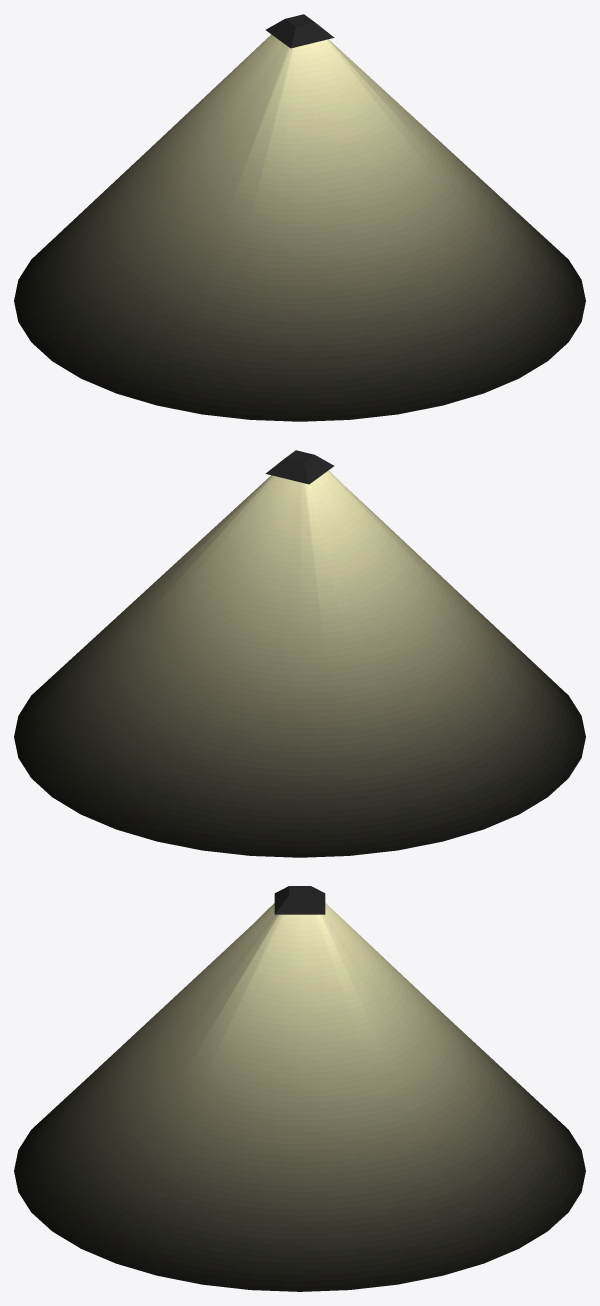
Rendered from street lamp.FBX.
The picture shows the model from 3 angles, top to bottom: view 1: azimuth 30°, elevation 25°; view 2: azimuth 150°, elevation 25°; view 3: azimuth 270°, elevation 25°; orthographic projection.
Parts seen in each view (by area): view 1: Cylinder003, Box010; view 2: Cylinder003, Box010; view 3: Cylinder003, Box010.
Boxes of the visible parts, left/top/right/bottom form: Cylinder003: left=14, top=34, right=585, bottom=421; Box010: left=266, top=14, right=334, bottom=48; Cylinder003: left=14, top=470, right=585, bottom=857; Box010: left=265, top=450, right=333, bottom=484; Cylinder003: left=14, top=903, right=585, bottom=1291; Box010: left=274, top=886, right=325, bottom=914.
Size of the model in its own units: 682 by 374 by 681.
